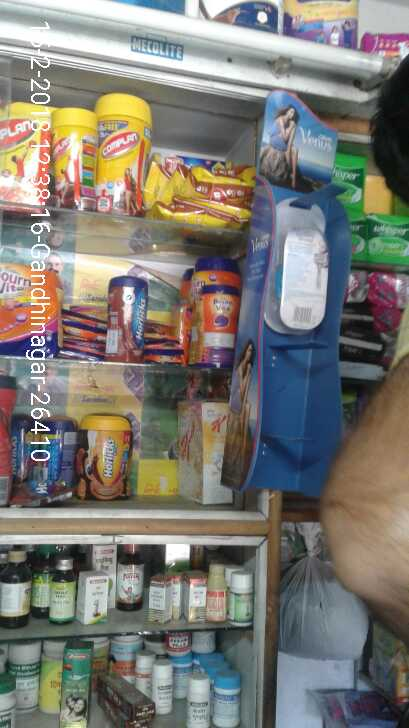pharmacy: (365, 203, 409, 269)
